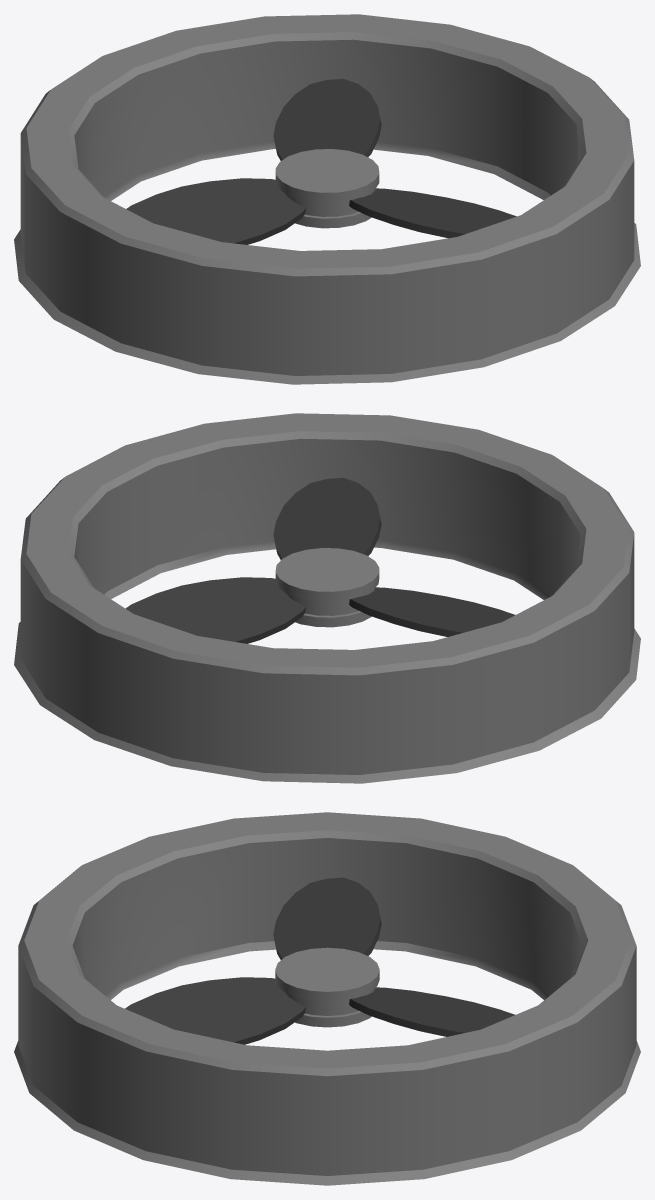
Rendered from Fan.fbx.
3 views of the same model, one above another, from view 1: azimuth 30°, elevation 25°; view 2: azimuth 150°, elevation 25°; view 3: azimuth 270°, elevation 25° (orthographic).
Parts seen in each view (by area): view 1: FanEdge, FanBlades; view 2: FanEdge, FanBlades; view 3: FanEdge, FanBlades.
Boxes of the visible parts, <box> form: FanEdge: <box>14,14,640,384</box>; FanBlades: <box>126,78,516,244</box>; FanEdge: <box>14,413,640,783</box>; FanBlades: <box>125,477,514,643</box>; FanEdge: <box>14,812,640,1185</box>; FanBlades: <box>125,877,515,1044</box>.
Bounding box in the file's own units: 0.8198 × 0.1591 × 0.8113.
